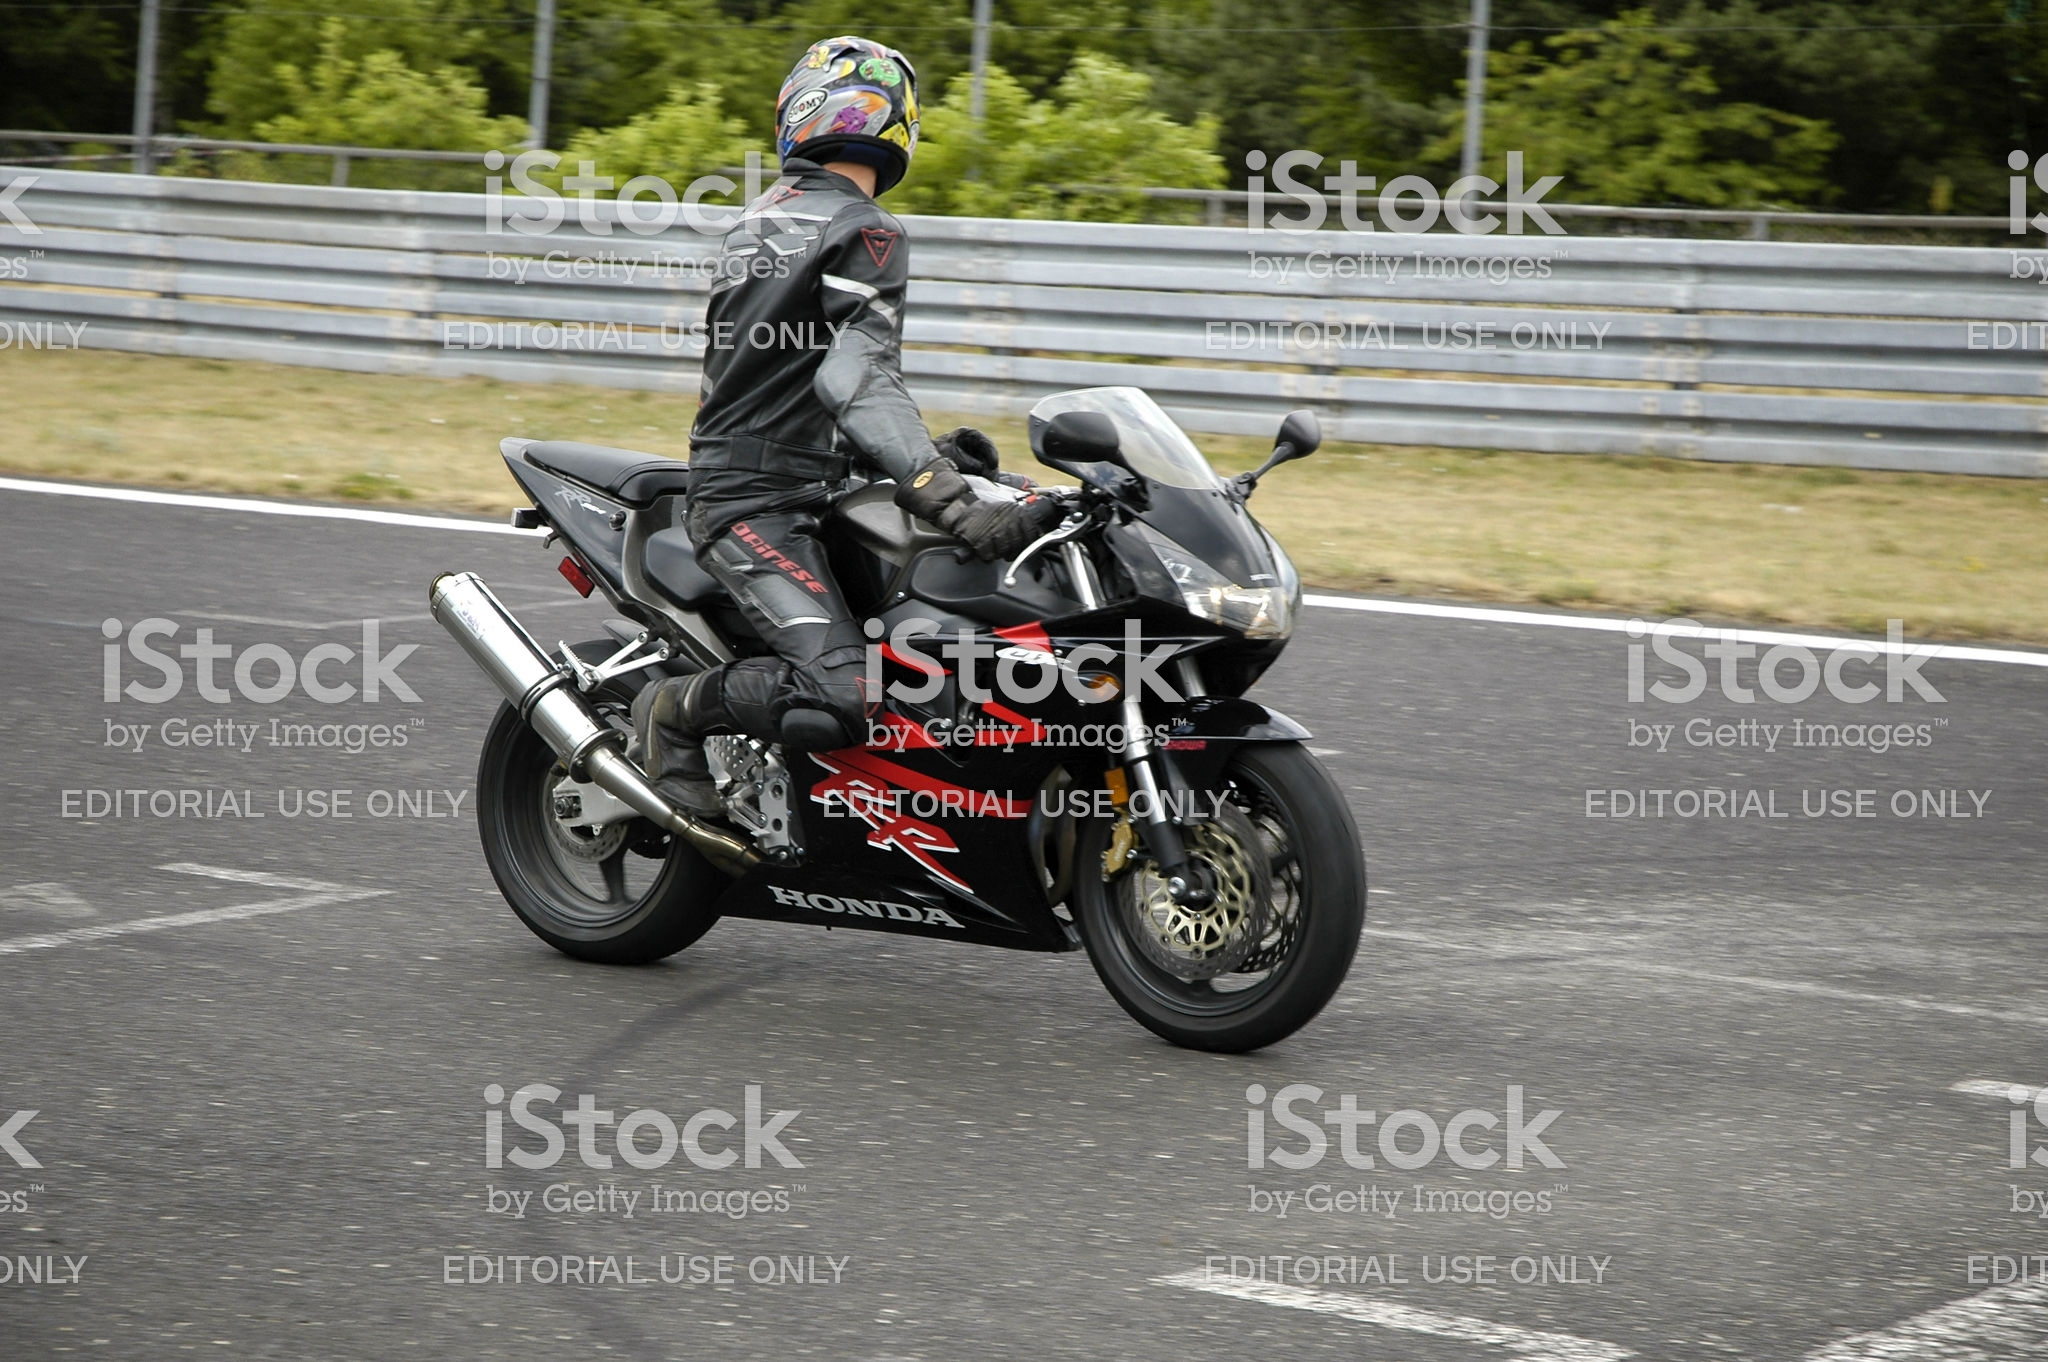helmet: (775, 33, 940, 176)
